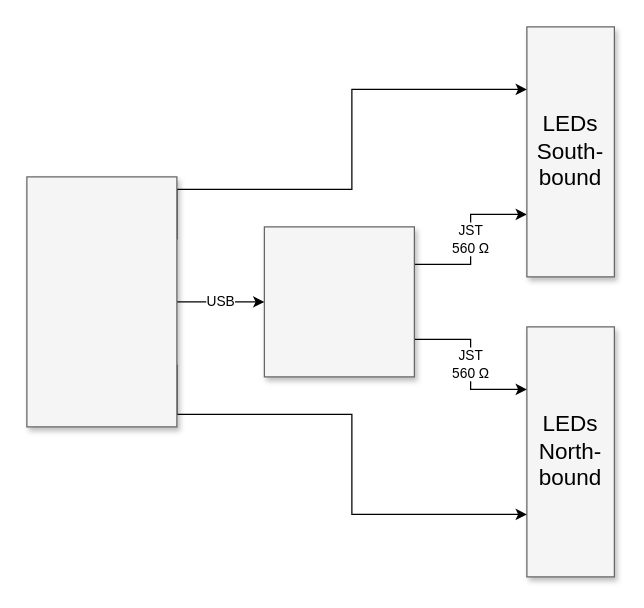
This 644x608 diagram has some shape labels left out. Here are the shapes that lost their labels. From the top down, the centre of each, then its label:
At pixel 102 303: "5 V DC Power Supply".
At pixel 340 303: "Arduino".
